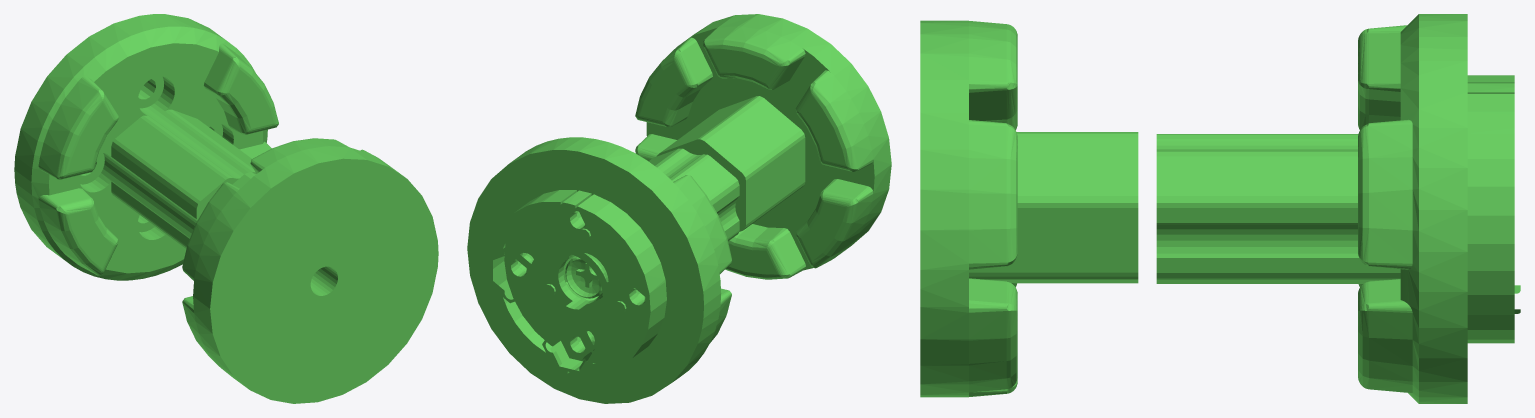
Rendered from axle.dae.
The picture shows the model from 3 angles, left to right: view 1: azimuth 30°, elevation 25°; view 2: azimuth 150°, elevation 25°; view 3: azimuth 270°, elevation 25°; orthographic projection. The views are drawn at different scales.
Parts seen in each view (by area): view 1: MX12WBracket_021; view 2: MX12WBracket_021; view 3: MX12WBracket_021.
Boxes of the visible parts, bbox=[...] form: MX12WBracket_021: bbox=[14, 14, 438, 403]; MX12WBracket_021: bbox=[467, 14, 891, 403]; MX12WBracket_021: bbox=[920, 14, 1520, 403].
Bounding box in the file's own units: 0.32 × 0.4922 × 0.3196.
